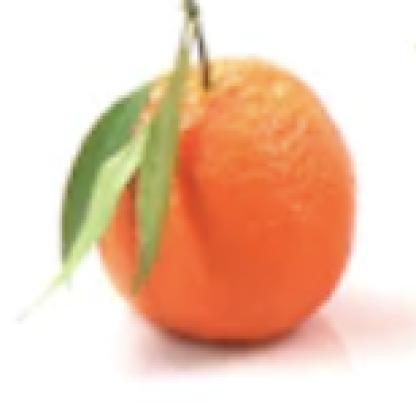fresh: (98, 53, 358, 346)
